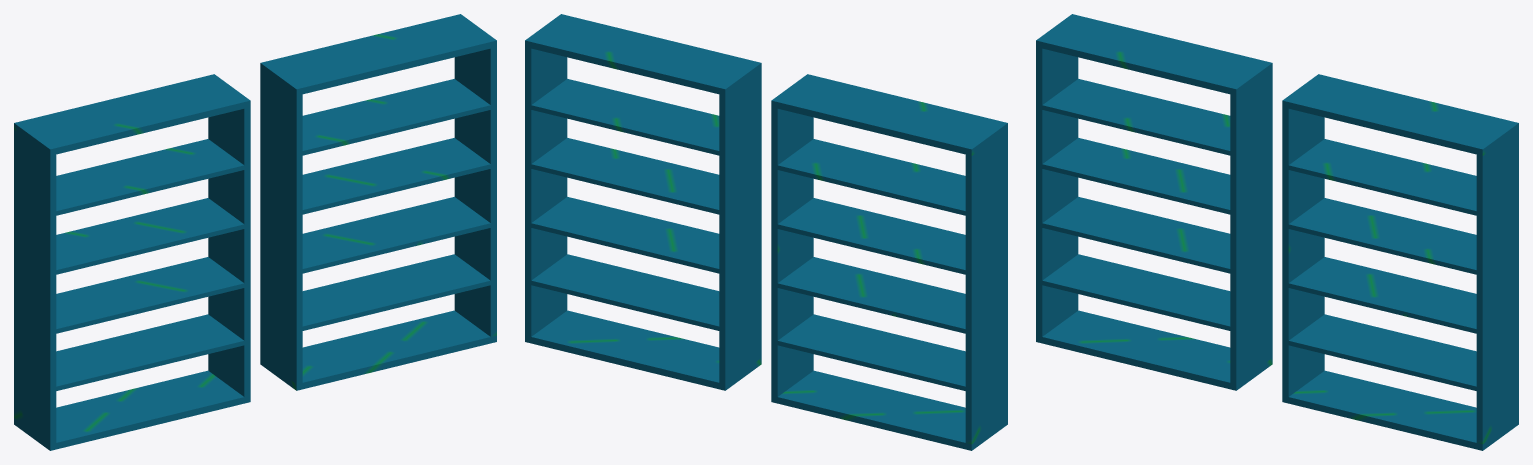
The model's file is bookshelf.glb.
The picture shows the model from 3 angles, left to right: view 1: azimuth 30°, elevation 25°; view 2: azimuth 150°, elevation 25°; view 3: azimuth 330°, elevation 25°; orthographic projection.
Visible parts, largest first — view 1: shelf.001; view 2: shelf.001; view 3: shelf.001.
Boxes of the visible parts, x1,y1,x2,y2 form: shelf.001: [14, 14, 496, 450]; shelf.001: [525, 14, 1007, 450]; shelf.001: [1036, 14, 1518, 450].
Size of the model in its own units: 3.57 by 2.3 by 0.5.
1 material, 1 textured.
